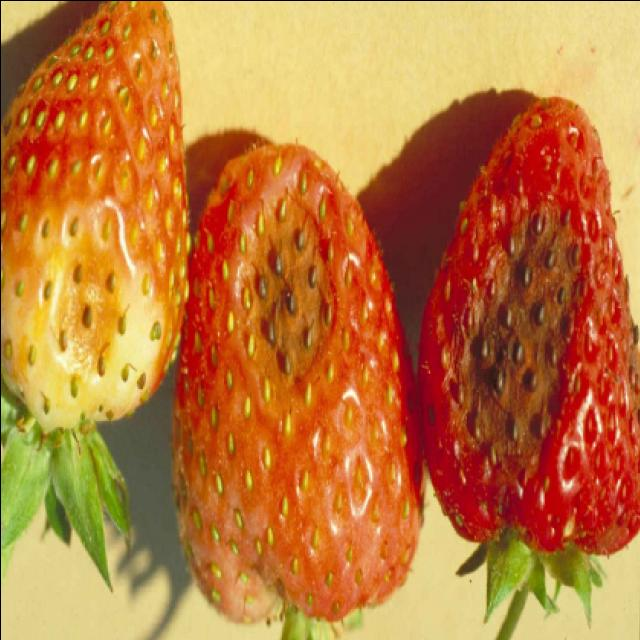Anthracnose Fruit Rot: (441, 194, 593, 485), (0, 190, 168, 433), (212, 187, 346, 432)
